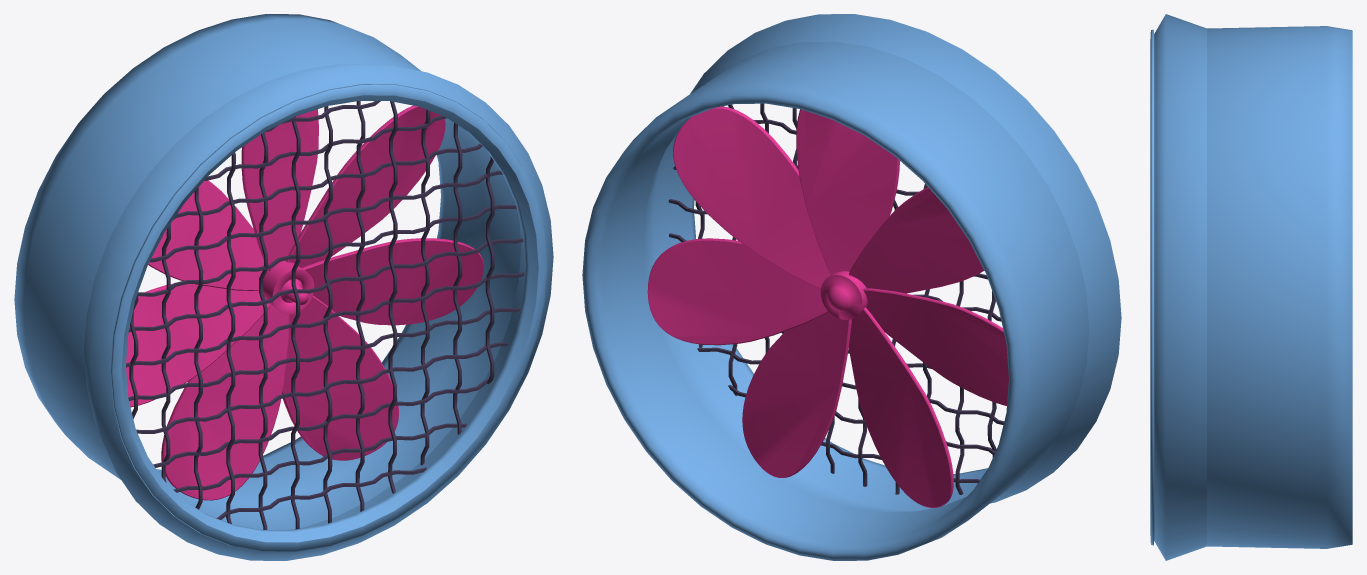
Rendered from fan.fbx.
3 views of the same model, side by side, from view 1: azimuth 30°, elevation 25°; view 2: azimuth 150°, elevation 25°; view 3: azimuth 270°, elevation 25° (orthographic). The views are drawn at different scales.
Visible parts, largest first — view 1: Frames.001, Frames.002, Frames; view 2: Frames.001, Frames.002, Frames; view 3: Frames.001.
Part boxes in pixels (x1,y1,x2,y2): Frames.001: (14, 14, 553, 560); Frames.002: (126, 105, 484, 500); Frames: (126, 101, 524, 529); Frames.001: (582, 14, 1121, 560); Frames.002: (647, 106, 1008, 507); Frames: (668, 103, 1004, 494); Frames.001: (1150, 14, 1352, 560).
Bounding box in the file's own units: 2.47 × 2.47 × 0.9123.
